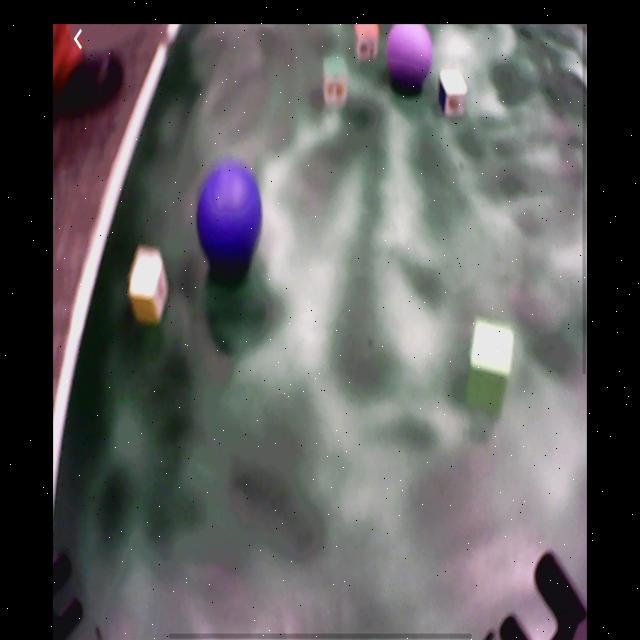ball: (197, 166, 263, 264), (387, 25, 433, 89)
